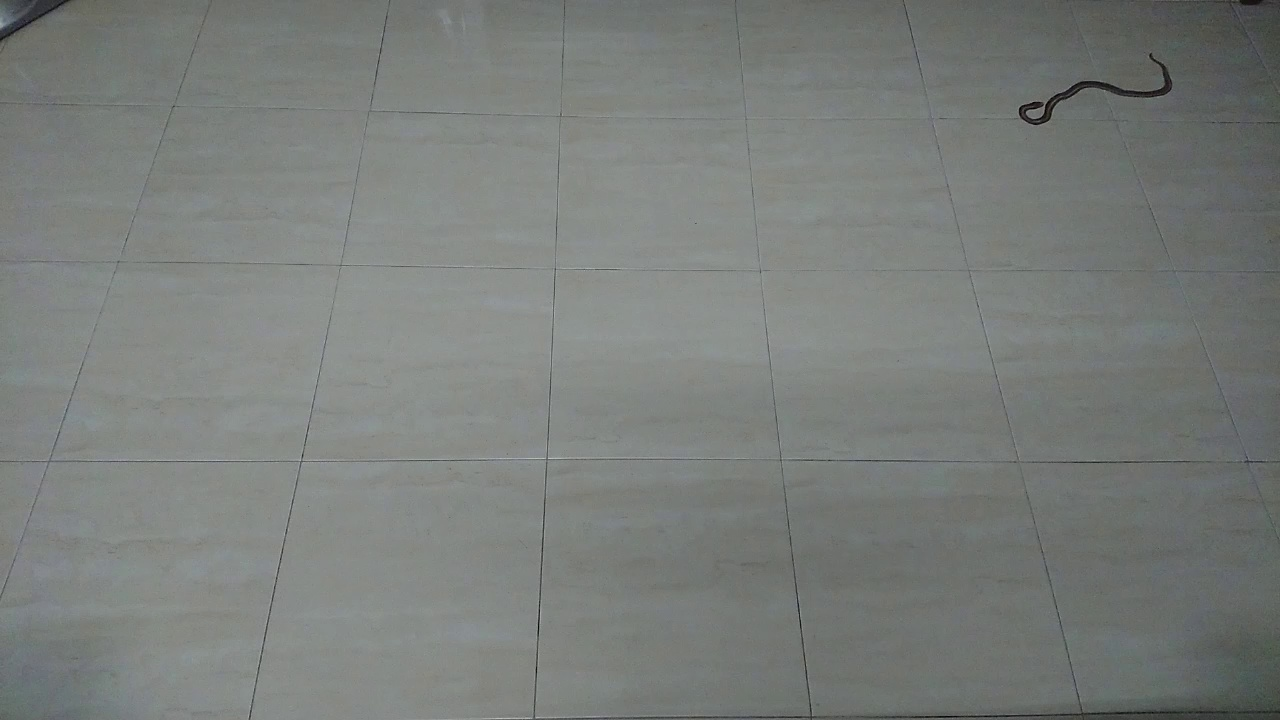snake: (1004, 45, 1183, 137)
